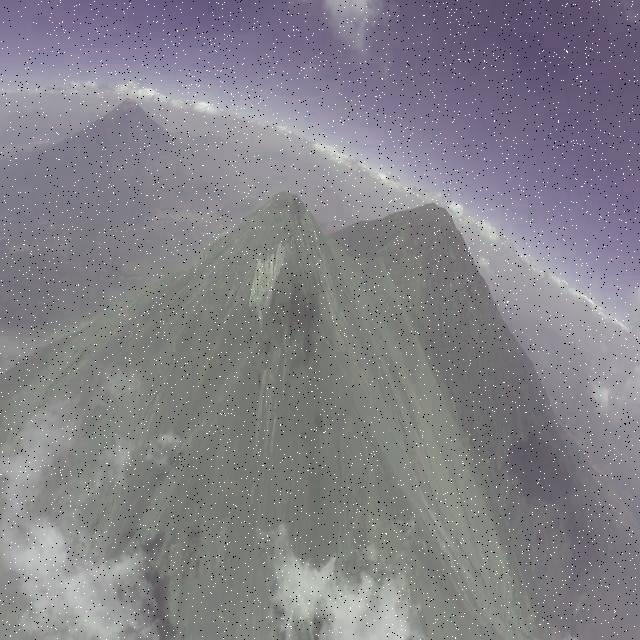Summit: (172, 186, 334, 322)
